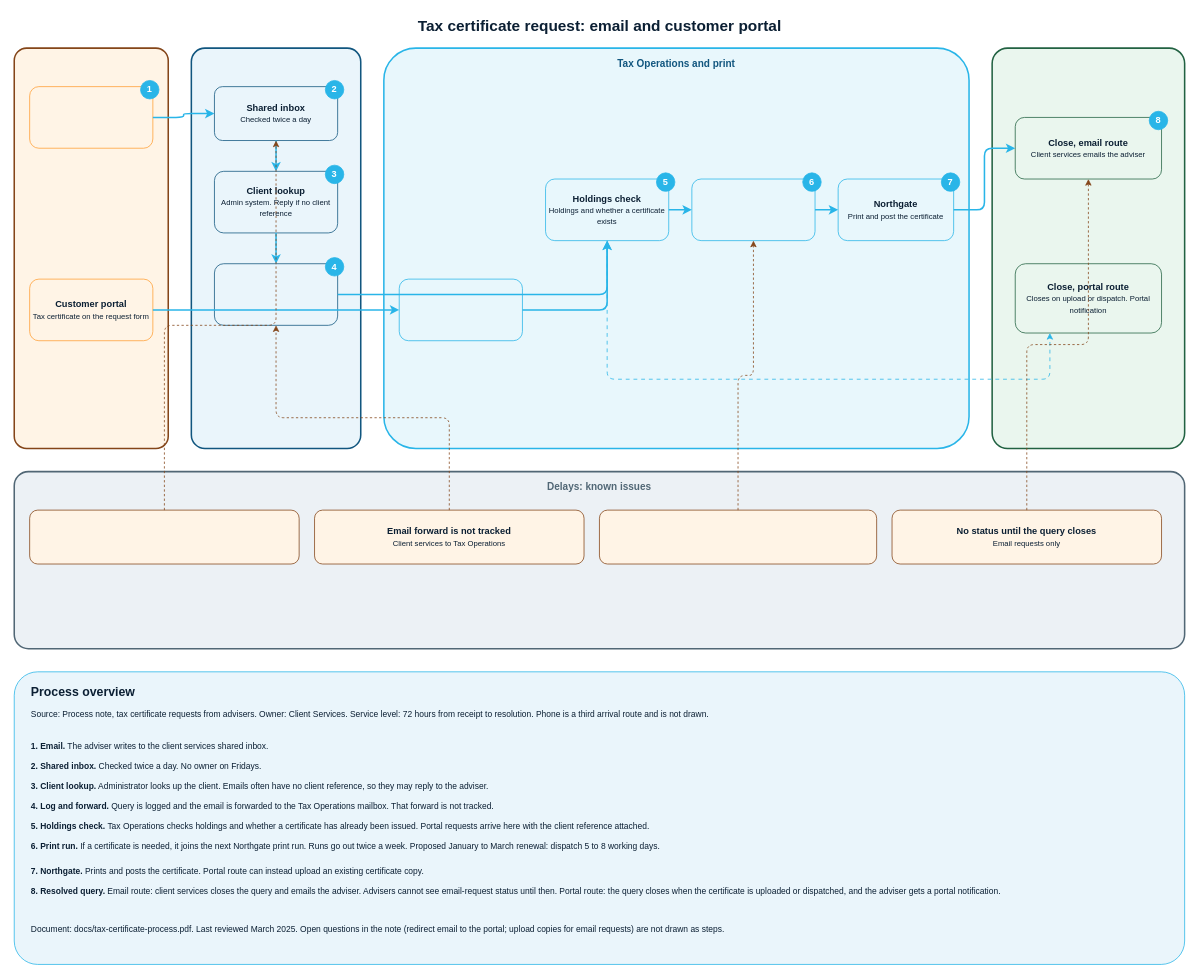
This 1198x978 diagram has some shape labels left out. Here are the shapes that lost their labels. From the top down, the box of each, then its label:
(29, 86, 153, 148): Adviser email Client services shared inbox
(691, 178, 815, 241): Next print run Northgate Print and Post. Twice a week
(13, 47, 169, 449): How the request arrives
(190, 47, 361, 449): Client Services
(991, 47, 1185, 449): Resolved query
(214, 263, 338, 325): Log and forward Query logged. Email to Tax Operations mailbox
(398, 278, 522, 341): Tax Operations queue Portal: client reference already attached
(29, 509, 299, 564): No inbox owner on Fridays Shared inbox
(599, 509, 877, 564): Proposed dispatch: 5 to 8 working days Northgate renewal, January to March
